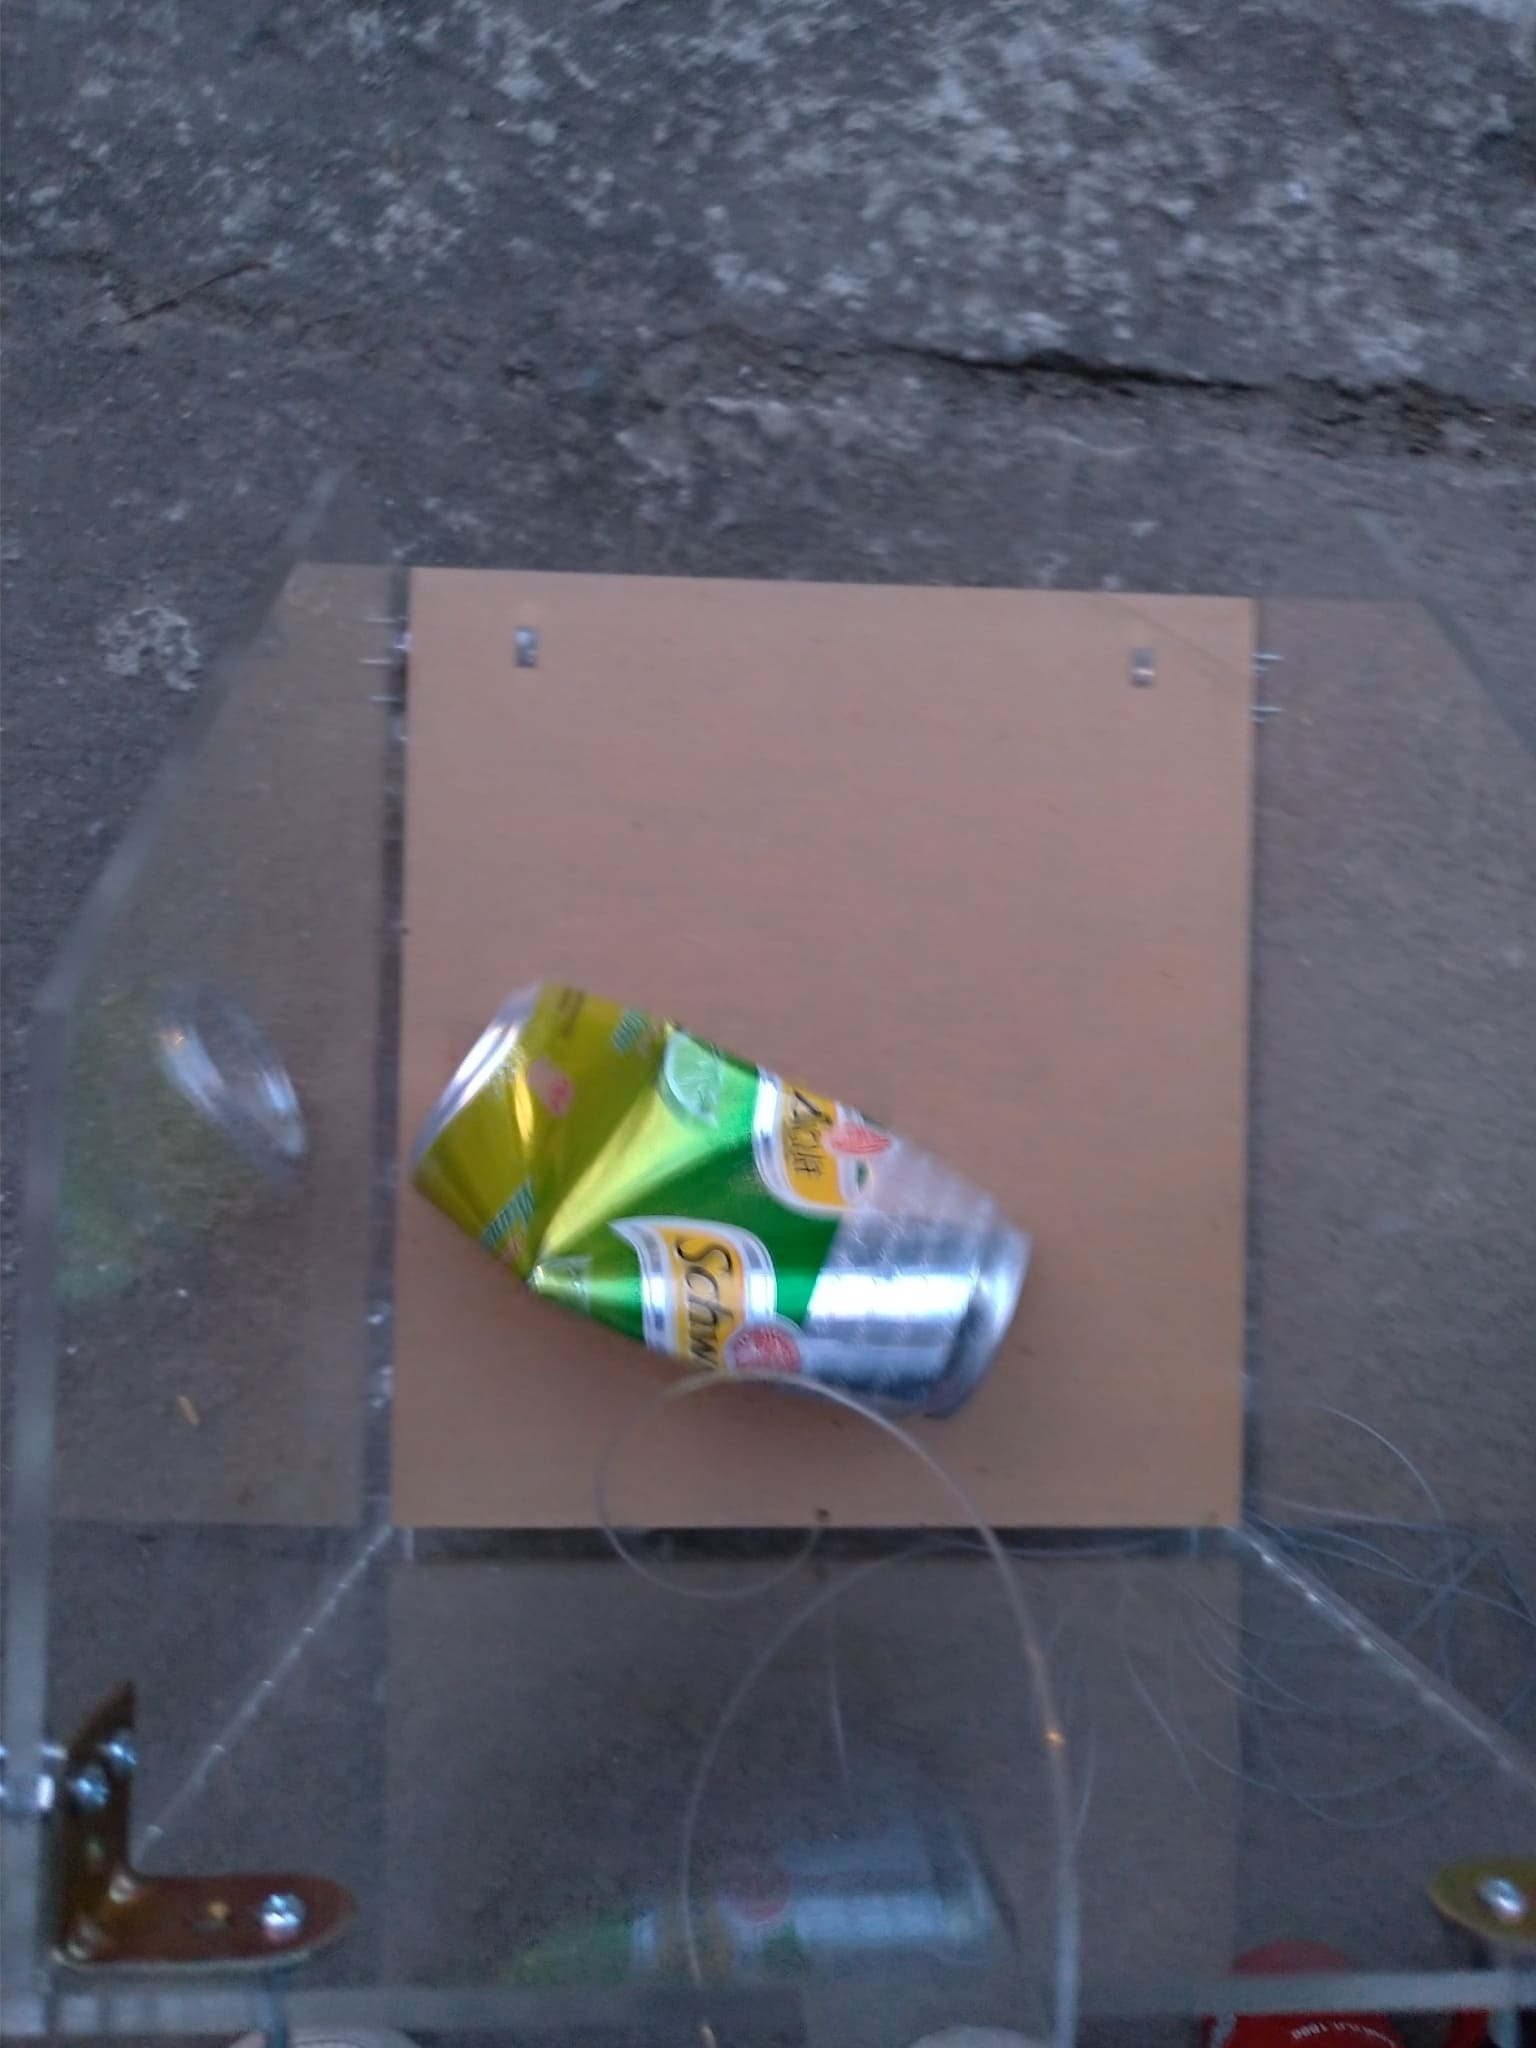AlCan: (403, 987, 1020, 1409)
